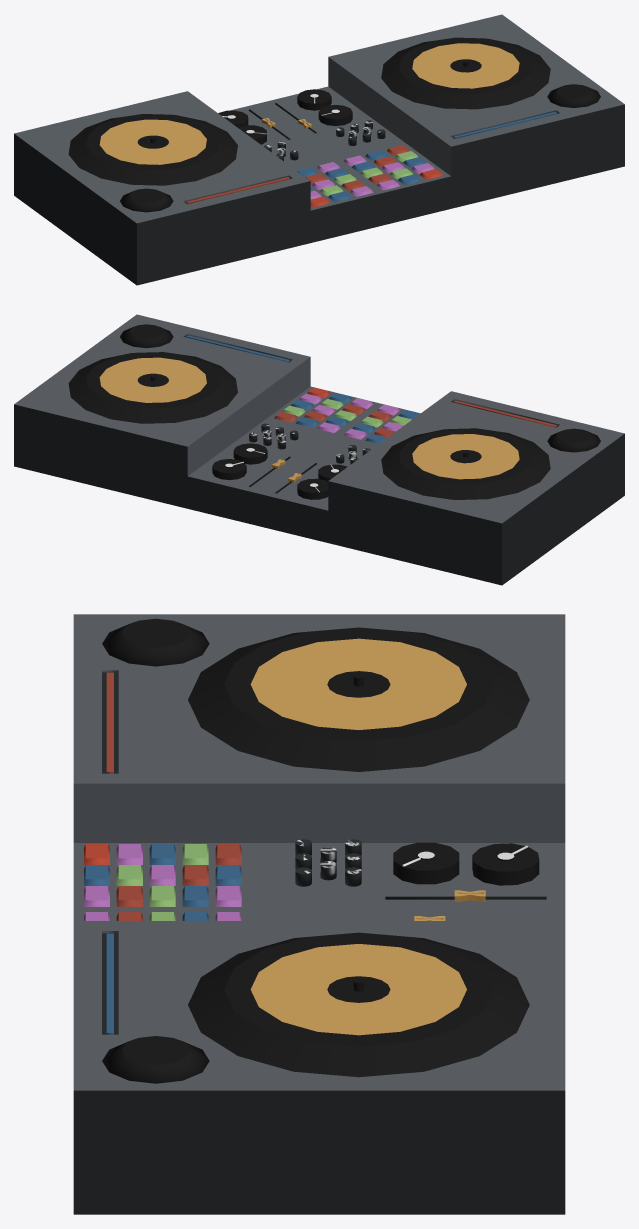
The model's file is SM_DJ_Turntable_01.obj.
3 views of the same model, one above another, from view 1: azimuth 30°, elevation 25°; view 2: azimuth 150°, elevation 25°; view 3: azimuth 270°, elevation 25° (orthographic). The views are drawn at different scales.
Parts seen in each view (by area): view 1: SM_DJ_Turntable_01_Mat_SwatchOverlay_PolygonOffice_01_Metal_Inst; view 2: SM_DJ_Turntable_01_Mat_SwatchOverlay_PolygonOffice_01_Metal_Inst; view 3: SM_DJ_Turntable_01_Mat_SwatchOverlay_PolygonOffice_01_Metal_Inst.
Part boxes in pixels (left/top/right/bottom): SM_DJ_Turntable_01_Mat_SwatchOverlay_PolygonOffice_01_Metal_Inst: left=14, top=14, right=624, bottom=285; SM_DJ_Turntable_01_Mat_SwatchOverlay_PolygonOffice_01_Metal_Inst: left=14, top=314, right=624, bottom=585; SM_DJ_Turntable_01_Mat_SwatchOverlay_PolygonOffice_01_Metal_Inst: left=73, top=614, right=565, bottom=1214.
Size of the model in its own units: 2.96 by 0.4287 by 1.29.
Materials: 1 (1 with a texture image).
